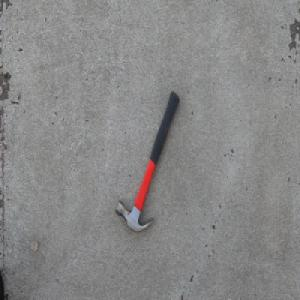Hammer: (114, 89, 180, 234)
